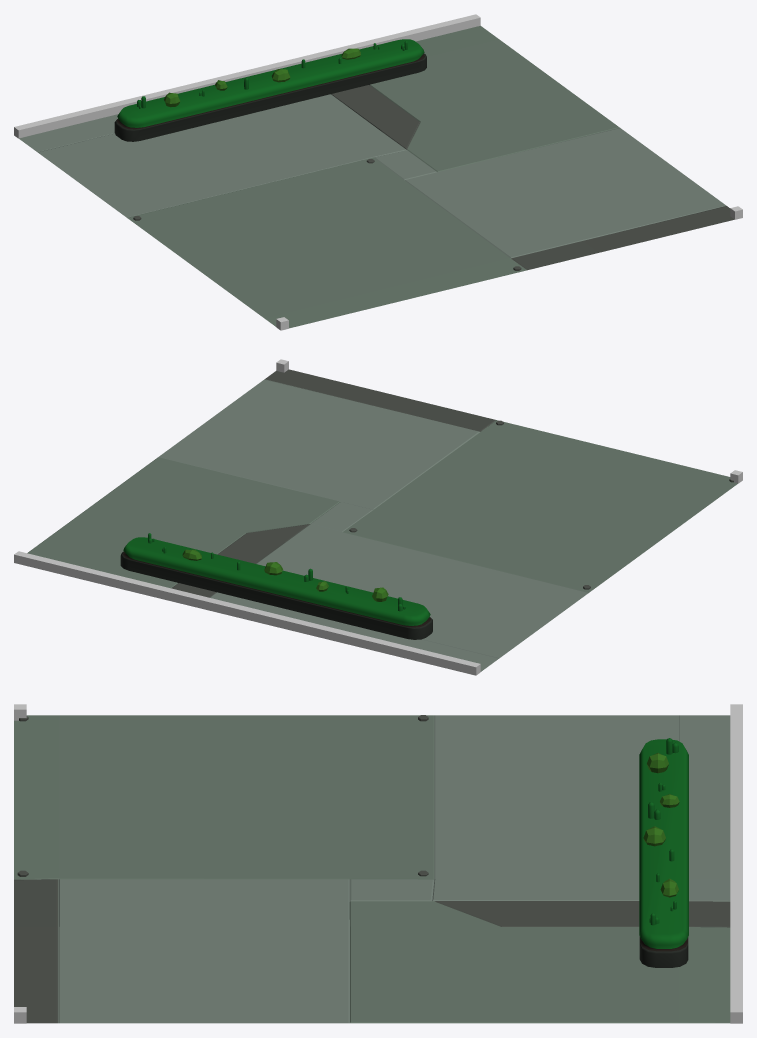
3 renders of one model, top to bottom at view 1: azimuth 30°, elevation 25°; view 2: azimuth 150°, elevation 25°; view 3: azimuth 270°, elevation 25°, orthographic. The views are drawn at different scales.
Parts seen in each view (by area): view 1: Scifi_Panel_04_Plaza014_group4.040_Scifi_Panel_04_Plaza014_group, TreePatch_Plaza014_group3.035, Cube.1139_Cube.1268; view 2: Scifi_Panel_04_Plaza014_group4.040_Scifi_Panel_04_Plaza014_group, TreePatch_Plaza014_group3.035, Cube.1139_Cube.1268; view 3: Scifi_Panel_04_Plaza014_group4.040_Scifi_Panel_04_Plaza014_group, TreePatch_Plaza014_group3.035, Cube.1139_Cube.1268.
Boxes of the visible parts, box(x1,y1,x2,y2) form: Scifi_Panel_04_Plaza014_group4.040_Scifi_Panel_04_Plaza014_group: box(19, 26, 734, 328); TreePatch_Plaza014_group3.035: box(114, 39, 426, 141); Cube.1139_Cube.1268: box(14, 14, 480, 138); Scifi_Panel_04_Plaza014_group4.040_Scifi_Panel_04_Plaza014_group: box(27, 369, 737, 671); TreePatch_Plaza014_group3.035: box(120, 537, 432, 639); Cube.1139_Cube.1268: box(14, 551, 480, 675); Scifi_Panel_04_Plaza014_group4.040_Scifi_Panel_04_Plaza014_group: box(14, 715, 730, 1023); TreePatch_Plaza014_group3.035: box(639, 739, 688, 967); Cube.1139_Cube.1268: box(730, 704, 742, 1023).
Bounding box in the file's own units: 10 × 0.7155 × 10.
